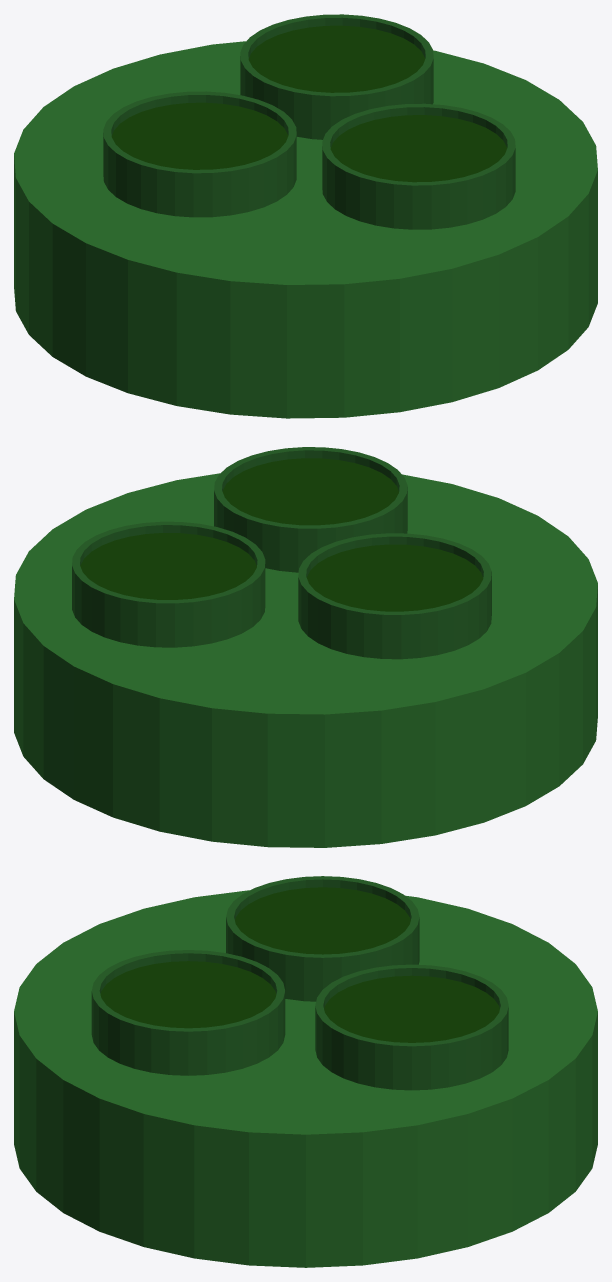
File: plas.fbx
3 views of the same model, one above another, from view 1: azimuth 30°, elevation 25°; view 2: azimuth 150°, elevation 25°; view 3: azimuth 270°, elevation 25° (orthographic).
Parts seen in each view (by area): view 1: Cylinder, Cylinder.002, Cylinder.001, Cylinder.003; view 2: Cylinder, Cylinder.002, Cylinder.003, Cylinder.001; view 3: Cylinder, Cylinder.001, Cylinder.003, Cylinder.002.
Part boxes in pixels (x1,y1,x2,y2): Cylinder: (14, 41, 597, 418); Cylinder.002: (103, 91, 296, 217); Cylinder.001: (322, 103, 515, 229); Cylinder.003: (240, 14, 433, 139); Cylinder: (14, 473, 597, 847); Cylinder.002: (298, 533, 491, 659); Cylinder.003: (72, 521, 265, 647); Cylinder.001: (214, 447, 407, 572); Cylinder: (14, 890, 597, 1267); Cylinder.001: (91, 950, 285, 1075); Cylinder.003: (315, 964, 508, 1090); Cylinder.002: (226, 876, 419, 1001).
Size of the model in its own units: 200 by 68.01 by 200.
